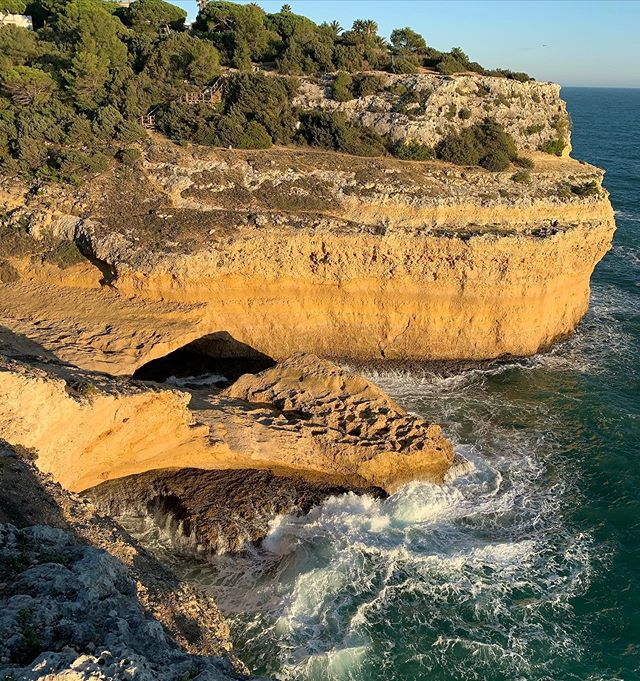sea: (260, 357, 640, 664), (555, 85, 640, 366)
vegetation: (1, 1, 521, 178)
